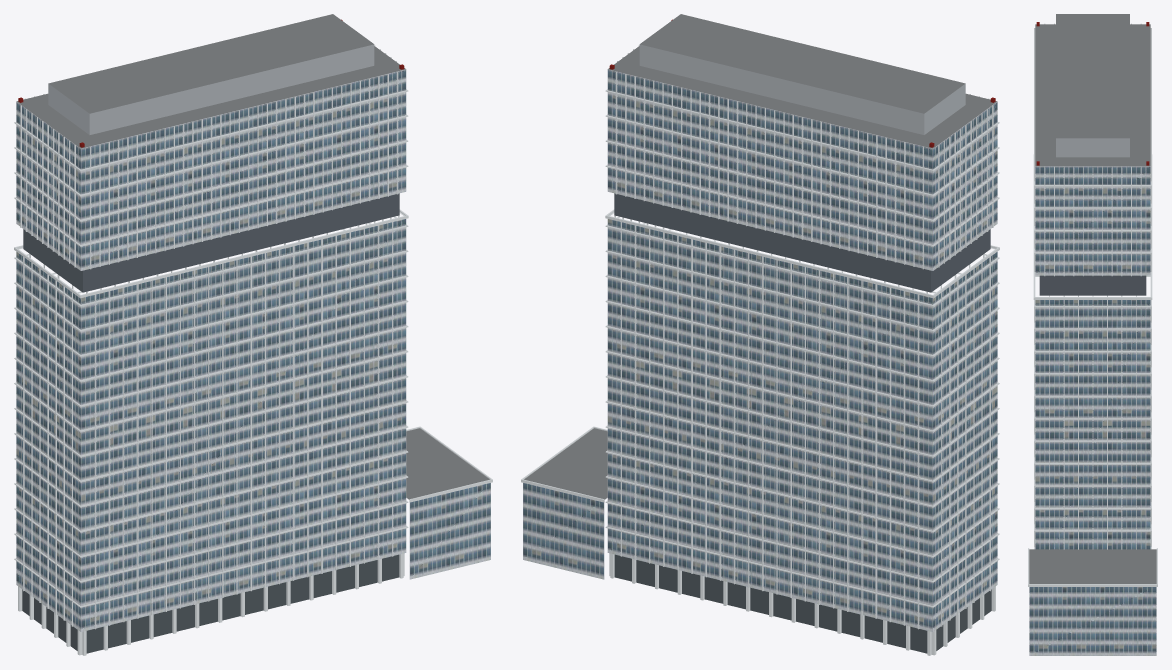
The model's file is tokyo_shiodome_building.glb.
The picture shows the model from 3 angles, left to right: view 1: azimuth 30°, elevation 25°; view 2: azimuth 150°, elevation 25°; view 3: azimuth 270°, elevation 25°; orthographic projection. The views are drawn at different scales.
Parts seen in each view (by area): view 1: tokyo_shiodome_building; view 2: tokyo_shiodome_building; view 3: tokyo_shiodome_building.
Part boxes in pixels (box(x1,y1,x2,y2)): tokyo_shiodome_building: box(14, 14, 492, 655); tokyo_shiodome_building: box(521, 14, 999, 655); tokyo_shiodome_building: box(1028, 14, 1157, 655).
Size of the model in its own units: 140 by 173 by 43.
Materials: 2 (2 with a texture image).
